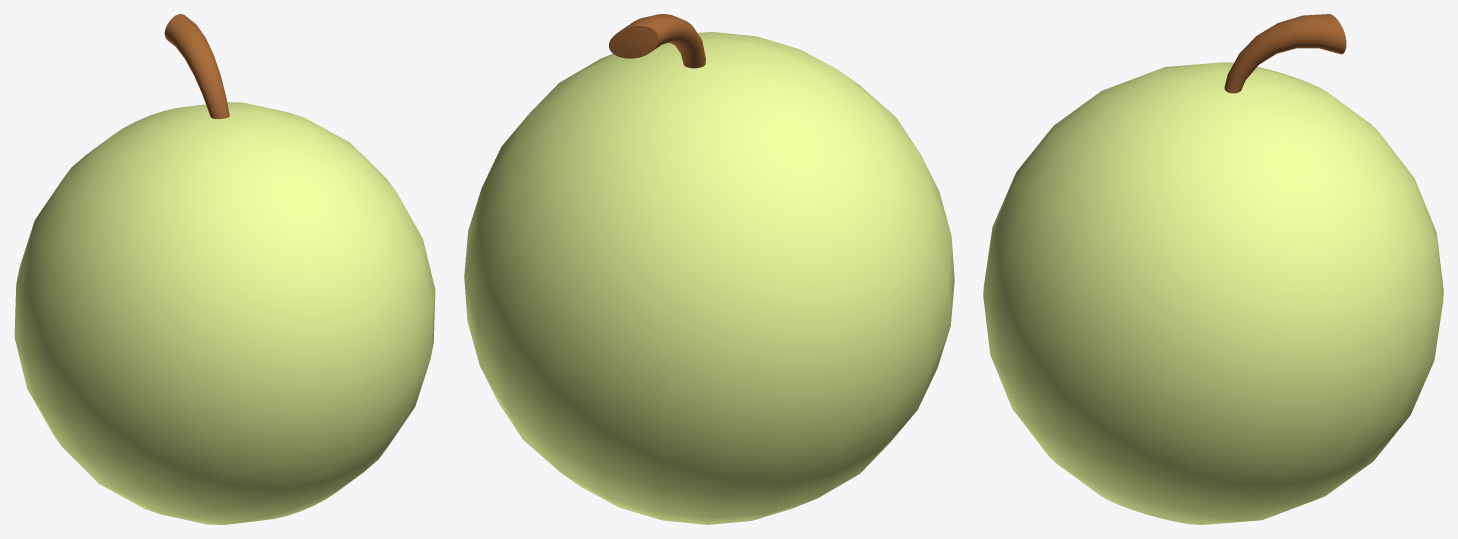
Rendered from meelon.fbx.
The picture shows the model from 3 angles, left to right: view 1: azimuth 30°, elevation 25°; view 2: azimuth 150°, elevation 25°; view 3: azimuth 270°, elevation 25°; orthographic projection. The views are drawn at different scales.
Parts seen in each view (by area): view 1: Sphere, Cone; view 2: Sphere, Cone; view 3: Sphere, Cone.
Part boxes in pixels (x1,y1,x2,y2): Sphere: (14,102,435,524); Cone: (164,14,229,119); Sphere: (464,31,954,524); Cone: (609,14,705,68); Sphere: (983,62,1443,524); Cone: (1224,14,1346,93).
Size of the model in its own units: 200 by 233 by 199.
